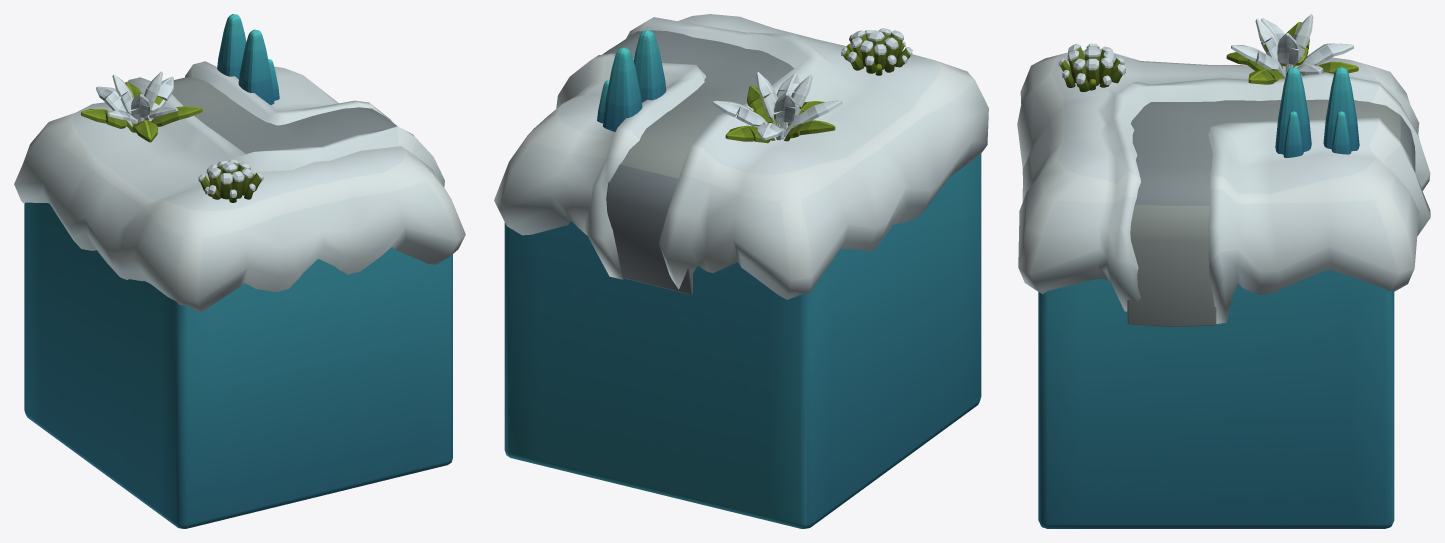
The model's file is Winter4.fbx.
3 renders of one model, left to right at view 1: azimuth 30°, elevation 25°; view 2: azimuth 150°, elevation 25°; view 3: azimuth 270°, elevation 25°, orthographic. The views are drawn at different scales.
Parts seen in each view (by area): view 1: Winter4, Winter_Cube4.003, Winter_Cube_04 .001, Winter4.003; view 2: Winter4, Winter_Cube4.003, Winter4.003, Winter_Cube_04 .001; view 3: Winter4, Winter_Cube4.003, Winter4.003, Winter_Cube_04 .001.
Part boxes in pixels (left/top/right/bottom): Winter4: left=24, top=202, right=452, bottom=528; Winter_Cube4.003: left=14, top=61, right=465, bottom=312; Winter_Cube_04 .001: left=81, top=14, right=279, bottom=202; Winter4.003: left=172, top=76, right=397, bottom=153; Winter4: left=504, top=153, right=981, bottom=528; Winter_Cube4.003: left=494, top=14, right=988, bottom=299; Winter4.003: left=602, top=30, right=793, bottom=294; Winter_Cube_04 .001: left=597, top=28, right=912, bottom=143; Winter4: left=1038, top=270, right=1394, bottom=528; Winter_Cube4.003: left=1017, top=49, right=1430, bottom=323; Winter4.003: left=1127, top=99, right=1415, bottom=327; Winter_Cube_04 .001: left=1058, top=14, right=1359, bottom=157.
Size of the model in its own units: 116 by 130 by 116.
